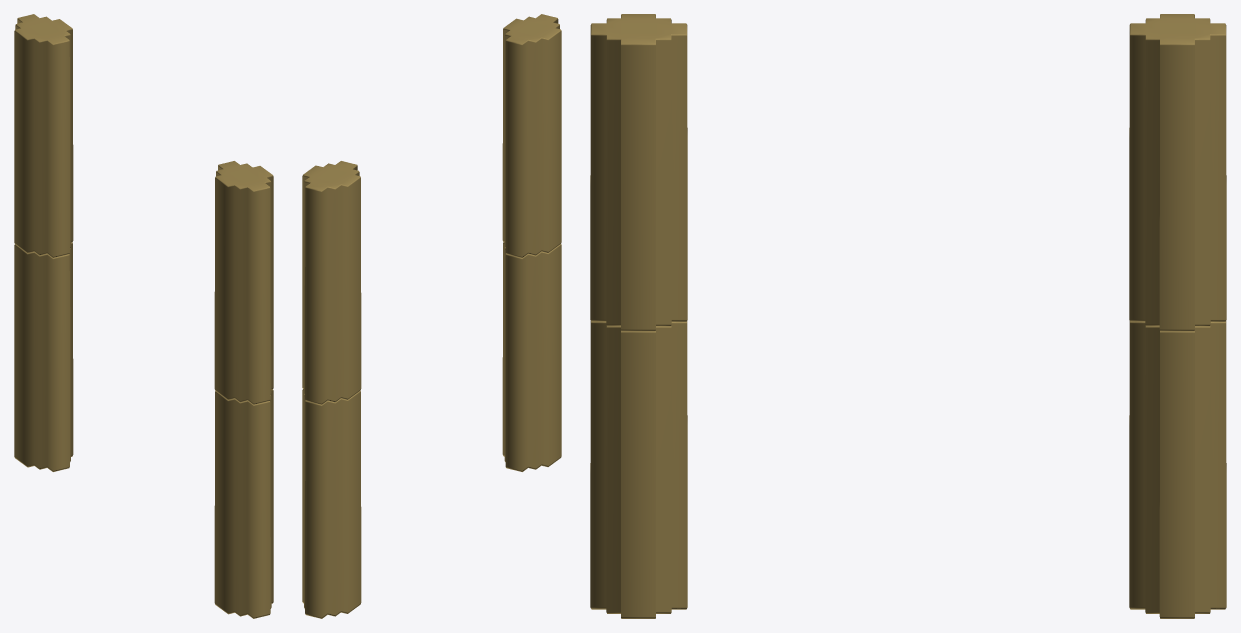
Rendered from Wall_Arc_07C_Lod0.fbx.
3 views of the same model, side by side, from view 1: azimuth 30°, elevation 25°; view 2: azimuth 150°, elevation 25°; view 3: azimuth 270°, elevation 25° (orthographic). The views are drawn at different scales.
Parts seen in each view (by area): view 1: Wall_Arc_07C_Lod0; view 2: Wall_Arc_07C_Lod0; view 3: Wall_Arc_07C_Lod0.
Part boxes in pixels (x1,y1,x2,y2): Wall_Arc_07C_Lod0: [14, 14, 273, 618]; Wall_Arc_07C_Lod0: [302, 14, 561, 618]; Wall_Arc_07C_Lod0: [590, 14, 1226, 618].
Size of the model in its own units: 67.22 by 599 by 600.
